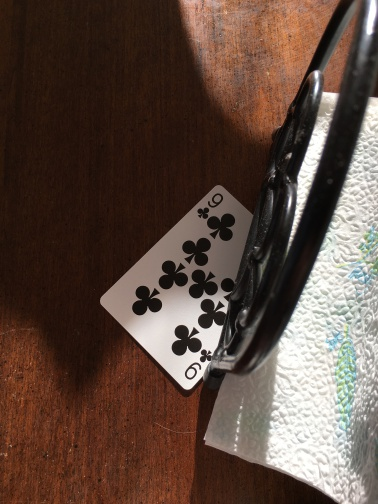nine: (99, 183, 254, 392)
